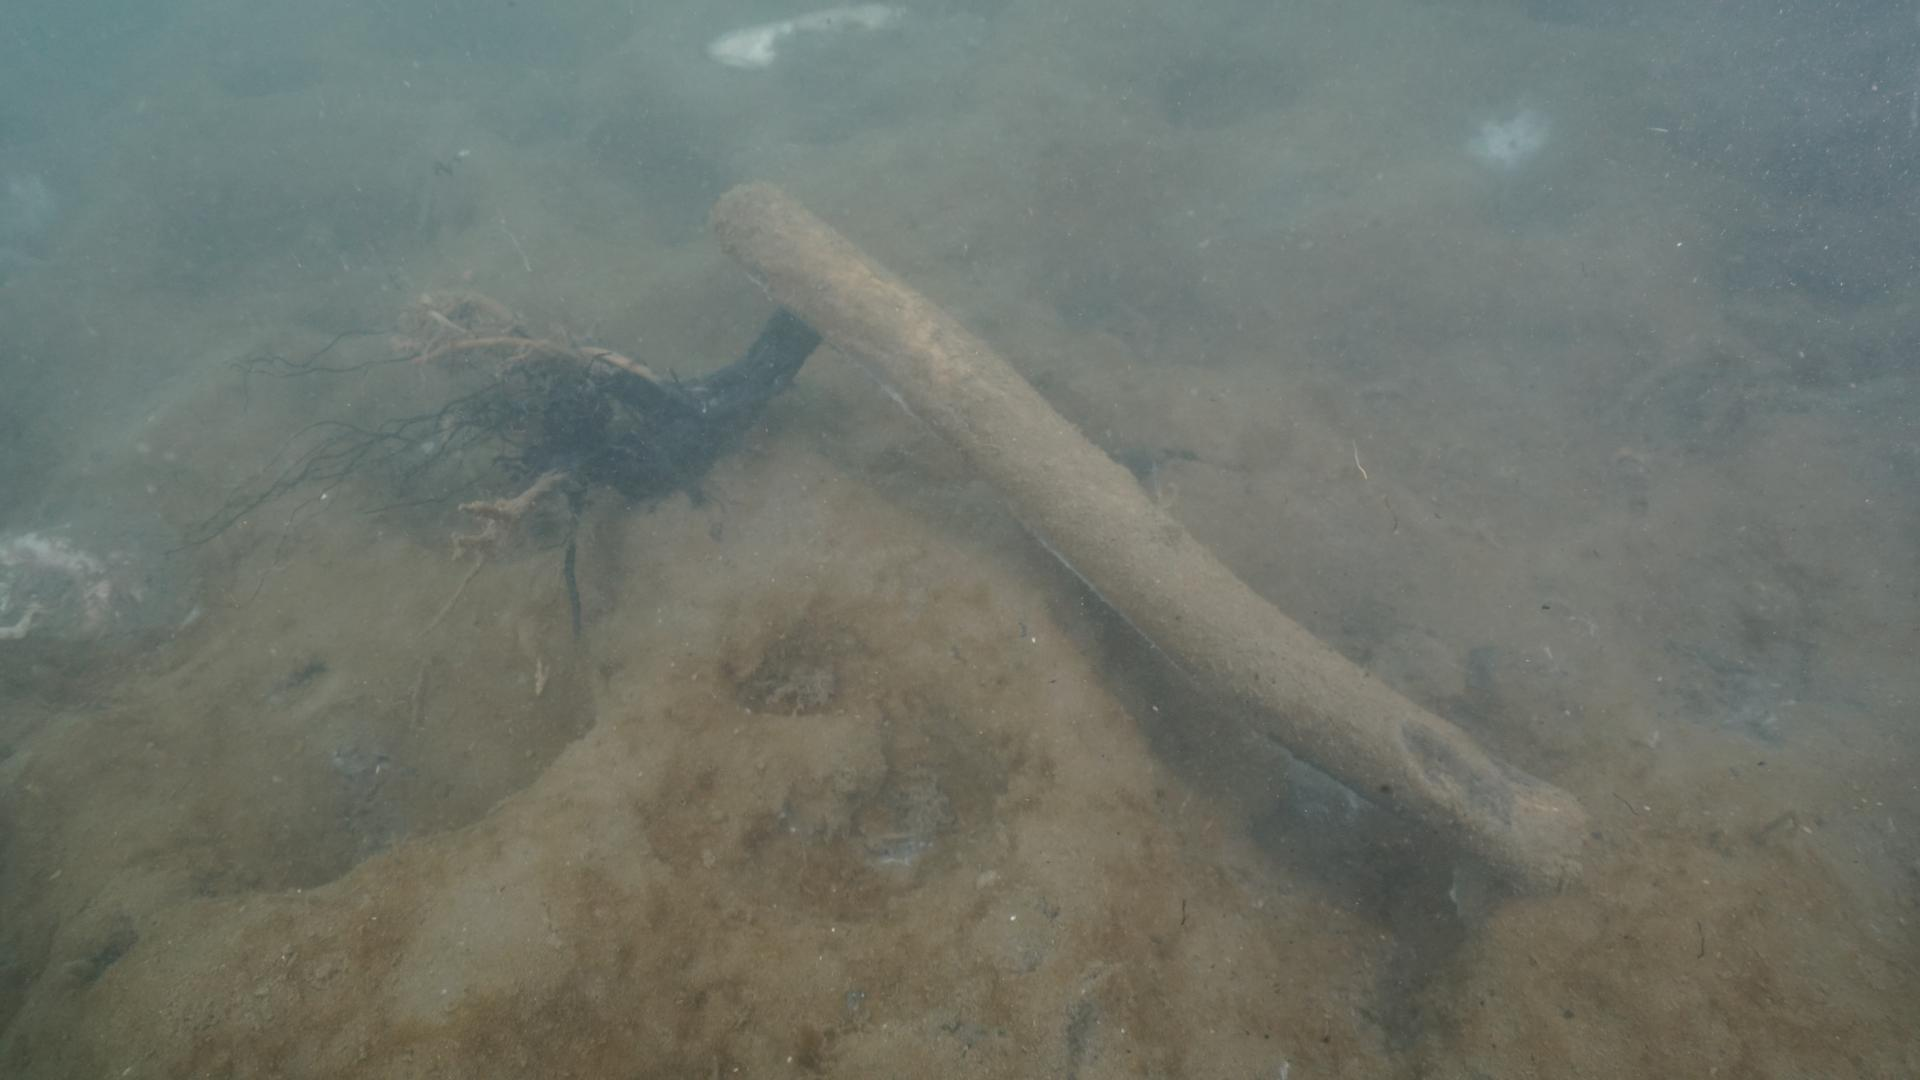wood: (691, 164, 1589, 919)
